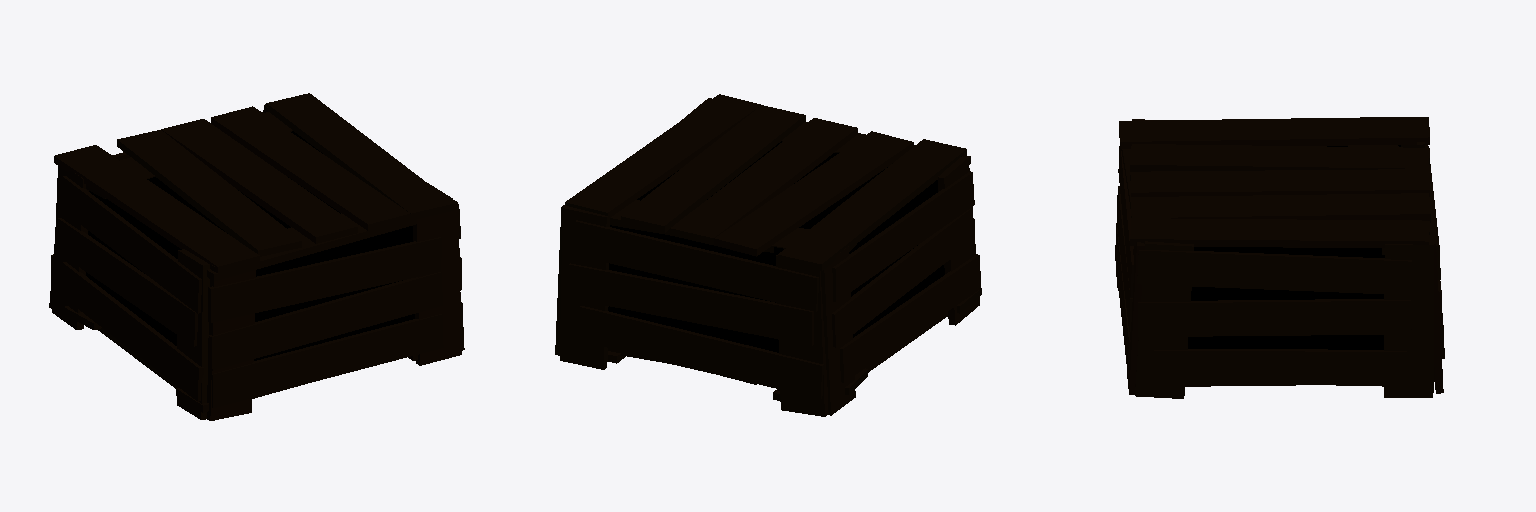
File: wood_box.obj
3 views of the same model, side by side, from view 1: azimuth 30°, elevation 25°; view 2: azimuth 150°, elevation 25°; view 3: azimuth 270°, elevation 25° (orthographic).
Parts seen in each view (by area): view 1: Cube.036_Cube.040; view 2: Cube.036_Cube.040; view 3: Cube.036_Cube.040.
Boxes of the visible parts, x1,y1,x2,y2 form: Cube.036_Cube.040: [49, 93, 464, 420]; Cube.036_Cube.040: [555, 94, 981, 416]; Cube.036_Cube.040: [1115, 117, 1444, 398].
Size of the model in its own units: 1.55 by 0.8354 by 1.62.